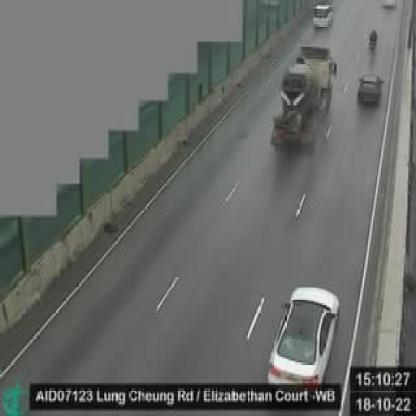Car: (263, 284, 340, 387), (358, 73, 385, 109), (311, 2, 336, 30)
Truck: (270, 46, 338, 154)
